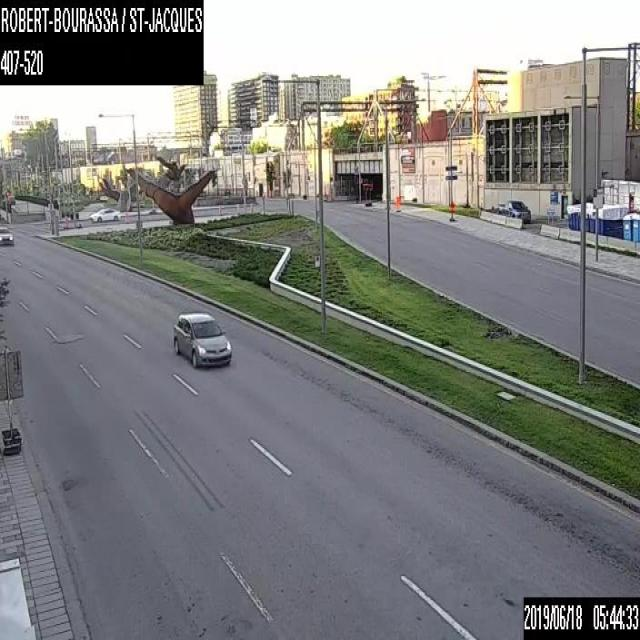construction: (448, 202, 454, 220), (395, 194, 401, 211)
vehicle: (172, 309, 232, 367), (496, 199, 530, 224), (89, 206, 120, 222), (0, 223, 14, 245)
